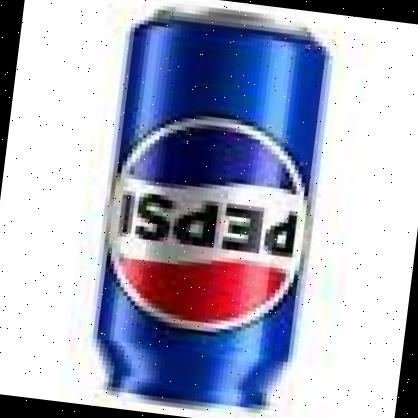can: (81, 0, 340, 418)
